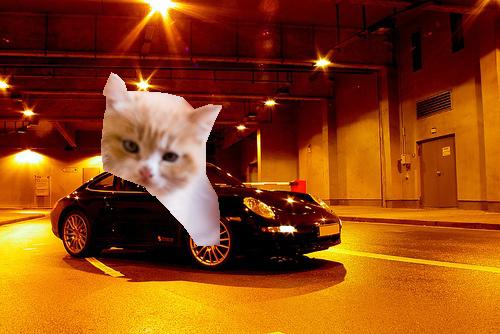tampered: (102, 73, 222, 246)
